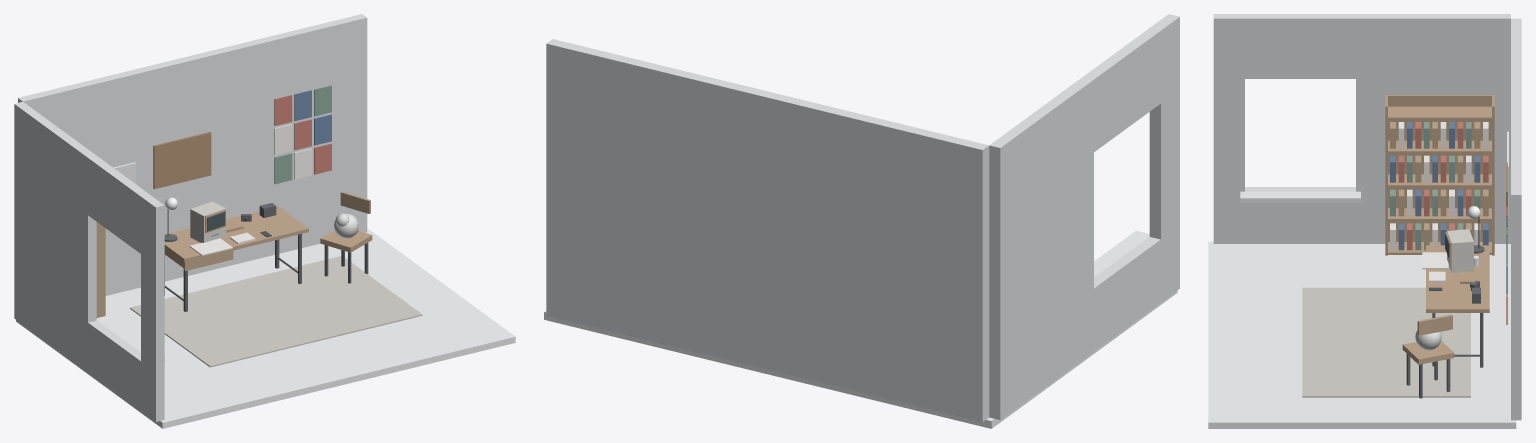
Rendered from four-hearts-room.glb.
The picture shows the model from 3 angles, left to right: view 1: azimuth 30°, elevation 25°; view 2: azimuth 150°, elevation 25°; view 3: azimuth 270°, elevation 25°; orthographic projection. The views are drawn at different scales.
Visible parts, largest first — view 1: ARCH_back_wall, ARCH_floor_plinth, ARCH_left_wall_back, ENV_rug, ARCH_left_wall_front, ARCH_left_wall_header, ARCH_left_wall_sill, HERO_desk_top, BOARD_about_cork, MAC_beige_shell, SHELF_side_-0.6, CHAIR_seat (+11 smaller); view 2: ARCH_back_wall, ARCH_left_wall_back, ARCH_left_wall_front, ARCH_left_wall_header, ARCH_left_wall_sill, ARCH_floor_plinth, ARCH_window_sill; view 3: ARCH_floor_plinth, ARCH_left_wall_back, ENV_rug, ARCH_left_wall_front, ARCH_left_wall_header, SHELF_back, ARCH_left_wall_sill, ARCH_back_wall, HERO_desk_top, SHELF_board_4, ARCH_window_sill, MAC_beige_shell (+10 smaller).
Part boxes in pixels (left/top/right/bottom): ARCH_back_wall: left=18, top=14, right=367, bottom=295; ARCH_floor_plinth: left=16, top=229, right=515, bottom=428; ARCH_left_wall_back: left=14, top=101, right=96, bottom=371; ENV_rug: left=130, top=256, right=422, bottom=367; ARCH_left_wall_front: left=141, top=194, right=164, bottom=421; ARCH_left_wall_header: left=88, top=155, right=148, bottom=253; ARCH_left_wall_sill: left=88, top=320, right=140, bottom=410; HERO_desk_top: left=164, top=206, right=308, bottom=262; BOARD_about_cork: left=153, top=131, right=211, bottom=189; MAC_beige_shell: left=190, top=201, right=226, bottom=242; SHELF_side_-0.6: left=96, top=222, right=105, bottom=317; CHAIR_seat: left=320, top=230, right=372, bottom=252; ARCH_back_wall: left=546, top=39, right=989, bottom=421; ARCH_left_wall_back: left=989, top=77, right=1093, bottom=419; ARCH_left_wall_front: left=1149, top=14, right=1179, bottom=302; ARCH_left_wall_header: left=1083, top=28, right=1160, bottom=151; ARCH_left_wall_sill: left=1094, top=237, right=1160, bottom=351; ARCH_floor_plinth: left=544, top=290, right=1177, bottom=428; ARCH_window_sill: left=1094, top=230, right=1149, bottom=277; ARCH_floor_plinth: left=1208, top=241, right=1516, bottom=428; ARCH_left_wall_back: left=1356, top=14, right=1510, bottom=243; ENV_rug: left=1302, top=287, right=1470, bottom=397; ARCH_left_wall_front: left=1213, top=14, right=1244, bottom=243; ARCH_left_wall_header: left=1245, top=14, right=1355, bottom=78; SHELF_back: left=1386, top=95, right=1493, bottom=241; ARCH_left_wall_sill: left=1245, top=187, right=1355, bottom=243; ARCH_back_wall: left=1511, top=18, right=1521, bottom=420; HERO_desk_top: left=1426, top=245, right=1489, bottom=312; SHELF_board_4: left=1388, top=106, right=1491, bottom=119; ARCH_window_sill: left=1240, top=191, right=1360, bottom=202; MAC_beige_shell: left=1447, top=229, right=1473, bottom=272.
Bounding box in the file's own units: 4.88 × 2.88 × 3.53.
